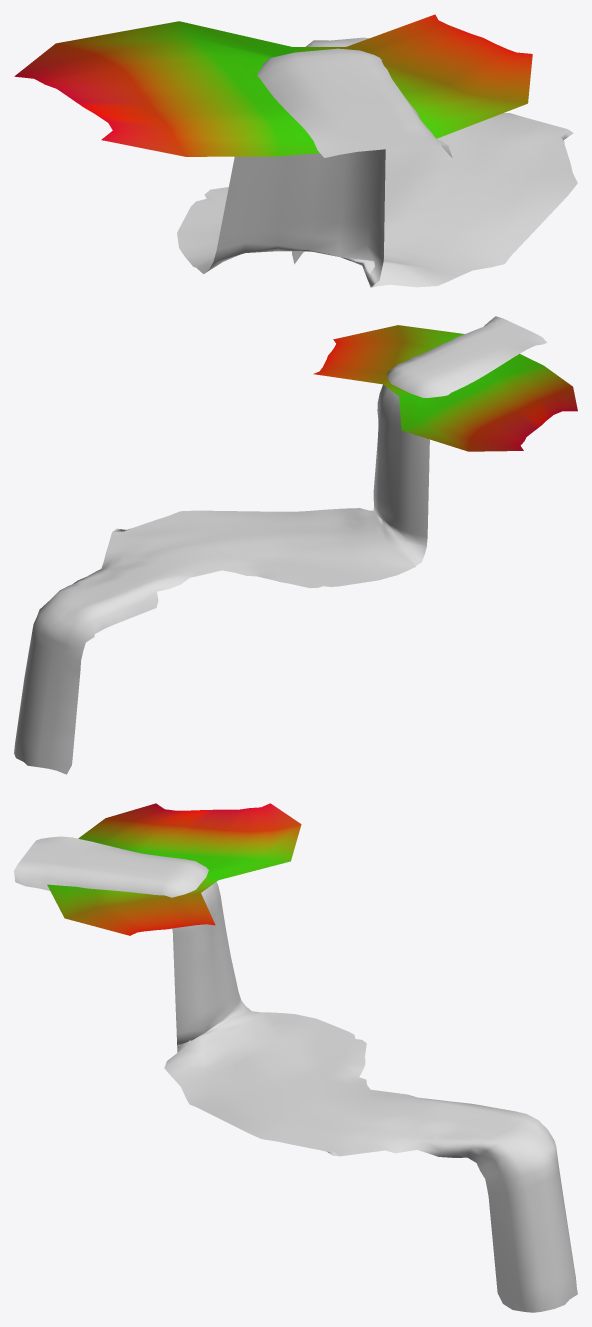
File: waterfall_part02_Flattened.fbx
3 renders of one model, top to bottom at view 1: azimuth 30°, elevation 25°; view 2: azimuth 150°, elevation 25°; view 3: azimuth 270°, elevation 25°, orthographic. The views are drawn at different scales.
Visible parts, largest first — view 1: Waterfall_RaysXperiment, polySurface3; view 2: Waterfall_RaysXperiment, polySurface3; view 3: Waterfall_RaysXperiment, polySurface3.
Boxes of the visible parts, x1,y1,x2,y2 form: Waterfall_RaysXperiment: (177, 37, 577, 287); polySurface3: (14, 14, 532, 156); Waterfall_RaysXperiment: (14, 316, 547, 774); polySurface3: (313, 325, 577, 451); Waterfall_RaysXperiment: (14, 836, 577, 1312); polySurface3: (47, 803, 301, 935).
Bounding box in the file's own units: 26032 × 20165 × 31572.
